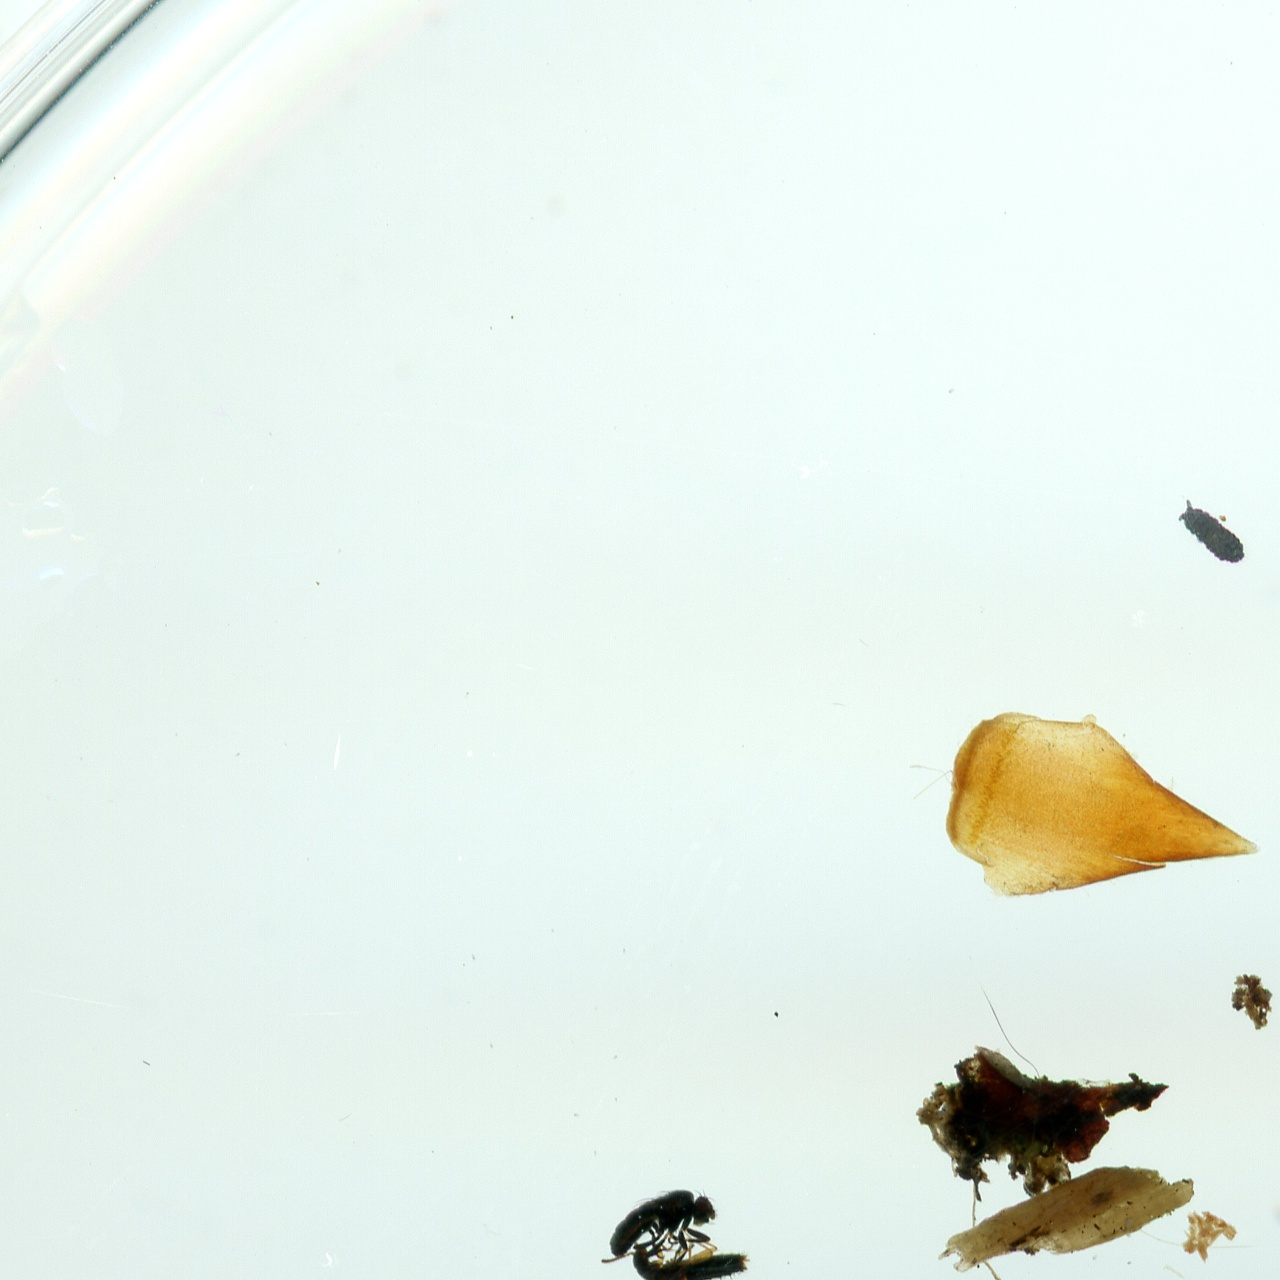arthropod: (602, 1190, 719, 1265), (1176, 497, 1246, 566), (627, 1243, 752, 1280)
